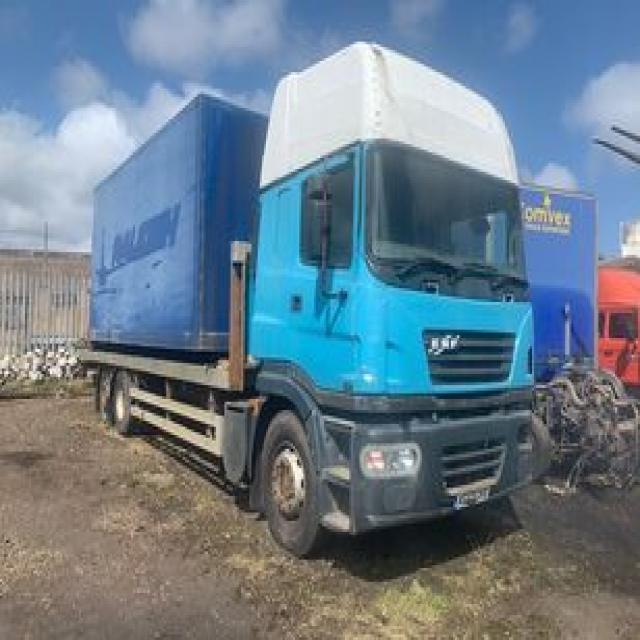truck: (81, 43, 534, 554)
